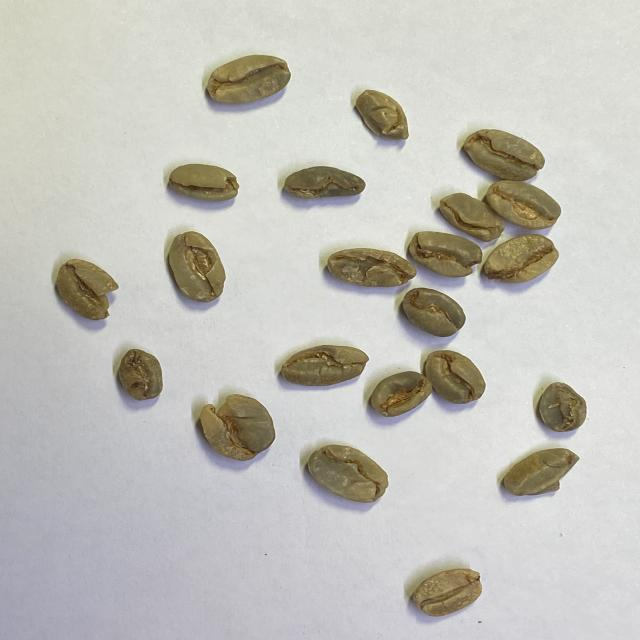bad: (198, 393, 277, 462), (307, 443, 389, 503), (462, 128, 546, 183), (206, 54, 292, 105), (168, 230, 227, 304), (54, 258, 119, 322), (484, 179, 562, 231), (503, 446, 580, 497), (483, 233, 560, 283), (281, 344, 370, 387), (411, 567, 484, 618), (326, 247, 418, 287), (408, 230, 483, 279), (424, 350, 487, 406), (438, 191, 505, 242), (402, 286, 466, 339), (369, 370, 433, 418), (354, 88, 410, 141), (168, 162, 240, 201), (284, 165, 366, 199), (538, 381, 587, 434), (118, 347, 165, 402)
